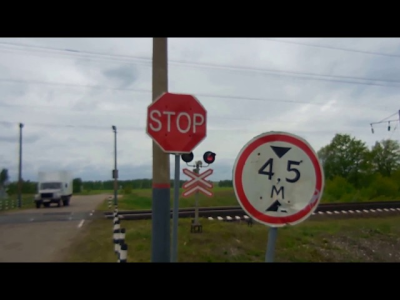stop: (148, 99, 206, 145)
